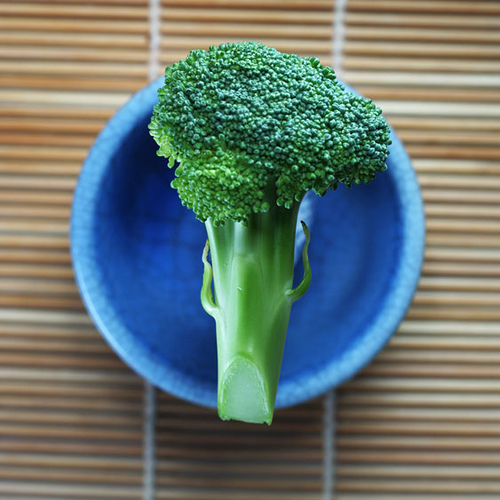broccoli: (147, 40, 393, 423)
